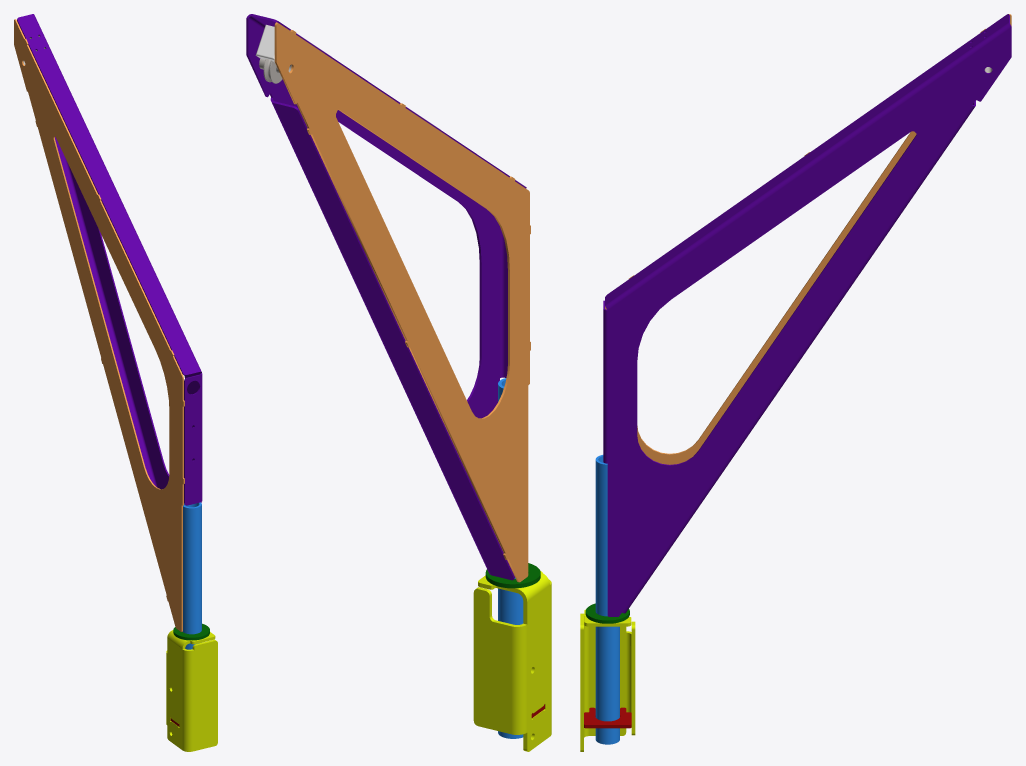
File: LC_Front_crane_assembly-v1.glb
3 renders of one model, left to right at view 1: azimuth 30°, elevation 25°; view 2: azimuth 150°, elevation 25°; view 3: azimuth 270°, elevation 25°, orthographic. The views are drawn at different scales.
Visible parts, largest first — view 1: LC Front crane bottom mount-1; view 2: LC Front crane bottom mount-1, LC Front crane pulley guide-1; view 3: LC Front crane bottom mount-1.
Boxes of the visible parts, <box> form: LC Front crane bottom mount-1: <box>14,14,217,751</box>; LC Front crane bottom mount-1: <box>246,14,551,751</box>; LC Front crane pulley guide-1: <box>255,24,274,62</box>; LC Front crane bottom mount-1: <box>580,14,1011,751</box>.
Bounding box in the file's own units: 0.0787 × 1.38 × 0.745.
3 materials, 3 textured.
